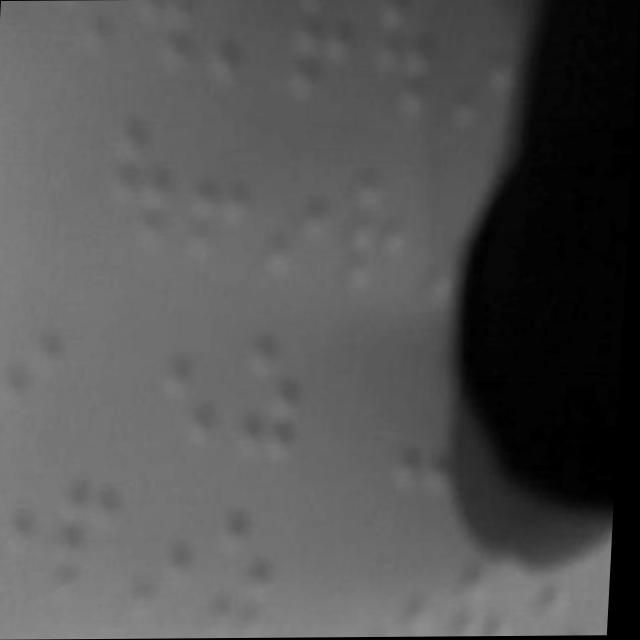braiile: (182, 126, 264, 269), (242, 310, 316, 465), (212, 487, 287, 637), (160, 309, 236, 453), (263, 145, 340, 285), (342, 162, 419, 302), (112, 116, 185, 254), (135, 480, 206, 618), (53, 478, 130, 595), (289, 0, 367, 115), (374, 0, 447, 118), (0, 458, 44, 582)
